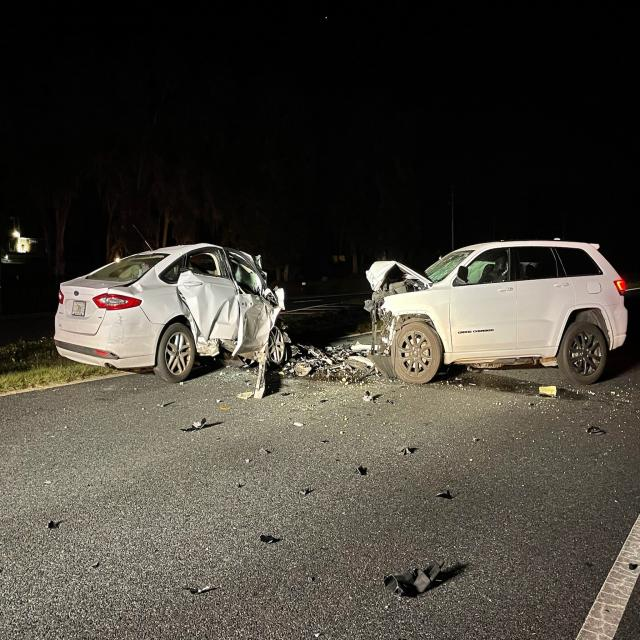accident: (4, 148, 634, 434), (347, 210, 636, 404), (42, 214, 300, 396)
